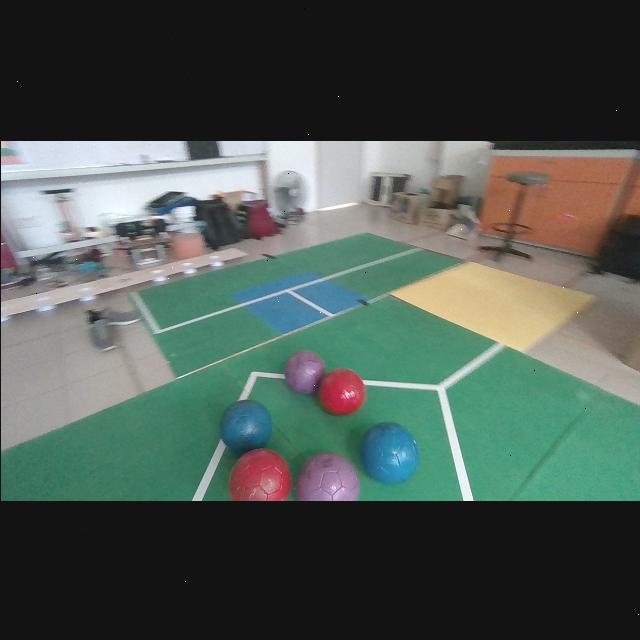B: (361, 421, 419, 483), (220, 399, 271, 453)
P: (295, 451, 358, 500), (283, 350, 324, 392)
R: (228, 448, 290, 500), (317, 367, 364, 415)
